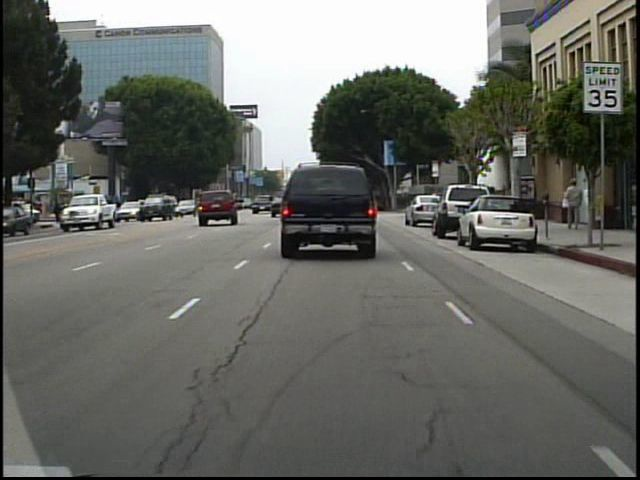person: (560, 175, 584, 236), (467, 178, 485, 219), (53, 199, 66, 226)
